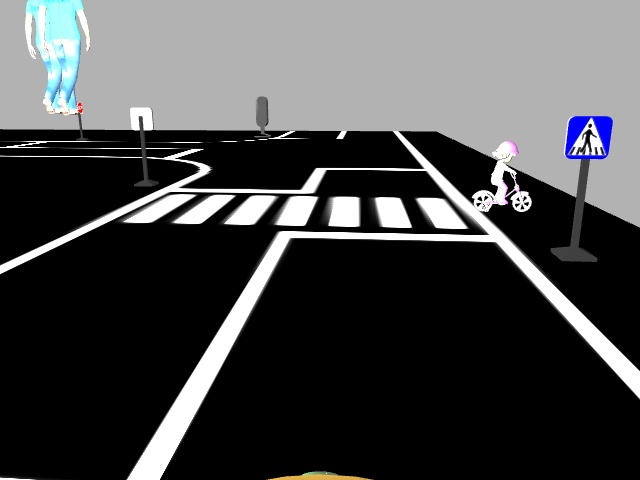Crosswalk: (565, 112, 611, 160)
Pedestrian: (468, 137, 532, 214)
